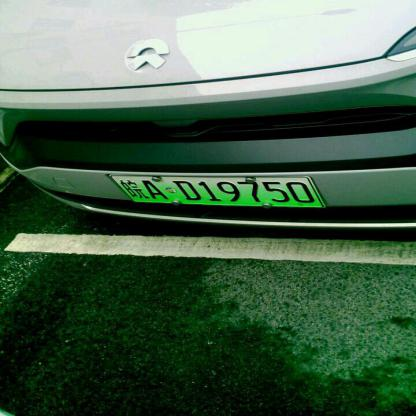lp: (108, 174, 324, 207)
